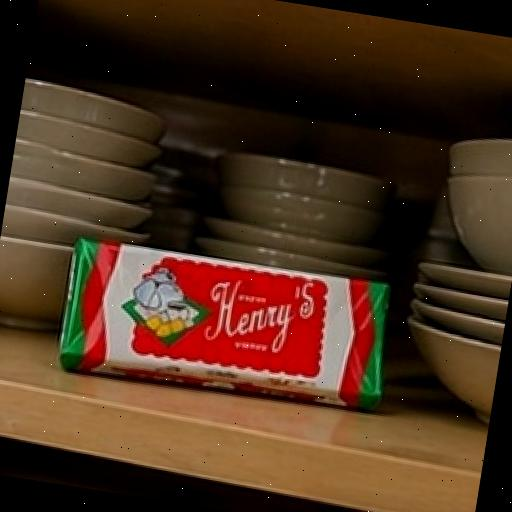golden: (56, 218, 508, 458)
